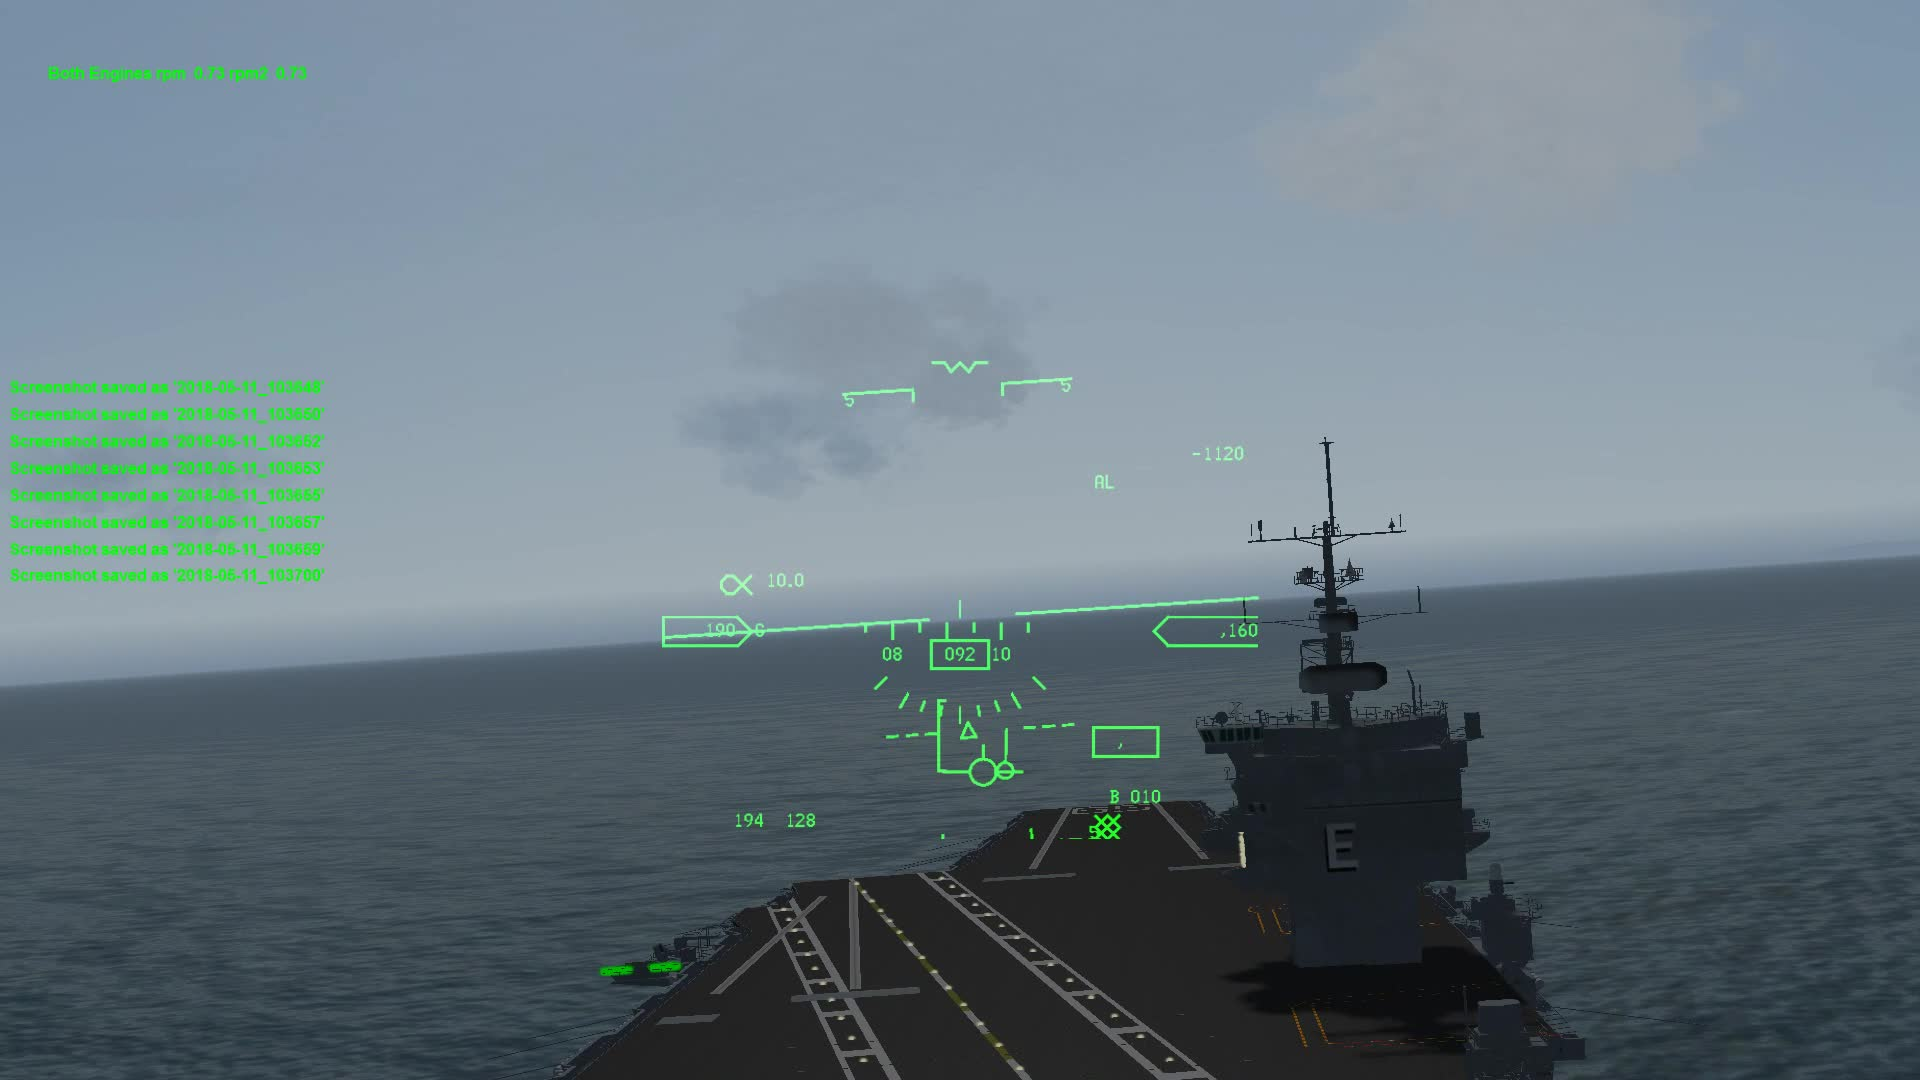speed_vector: (945, 742, 1029, 794)
